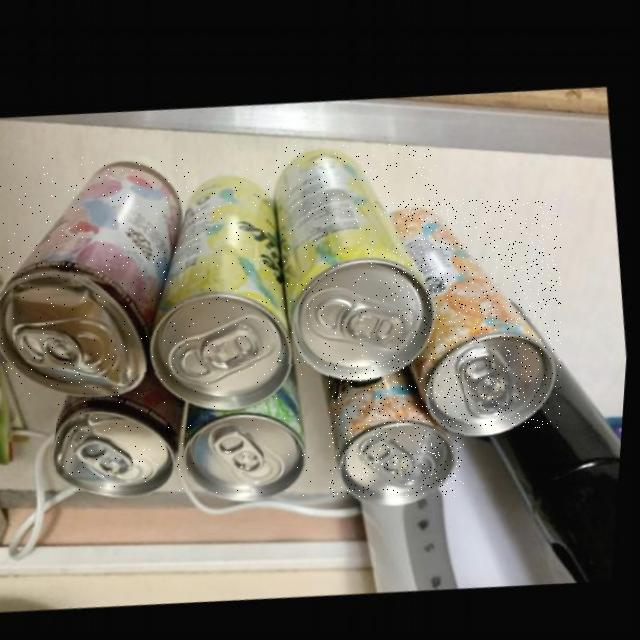metal: (0, 157, 185, 394), (393, 200, 561, 428), (277, 144, 440, 374), (153, 170, 298, 404), (329, 361, 464, 497), (186, 365, 313, 498), (57, 373, 190, 493)
